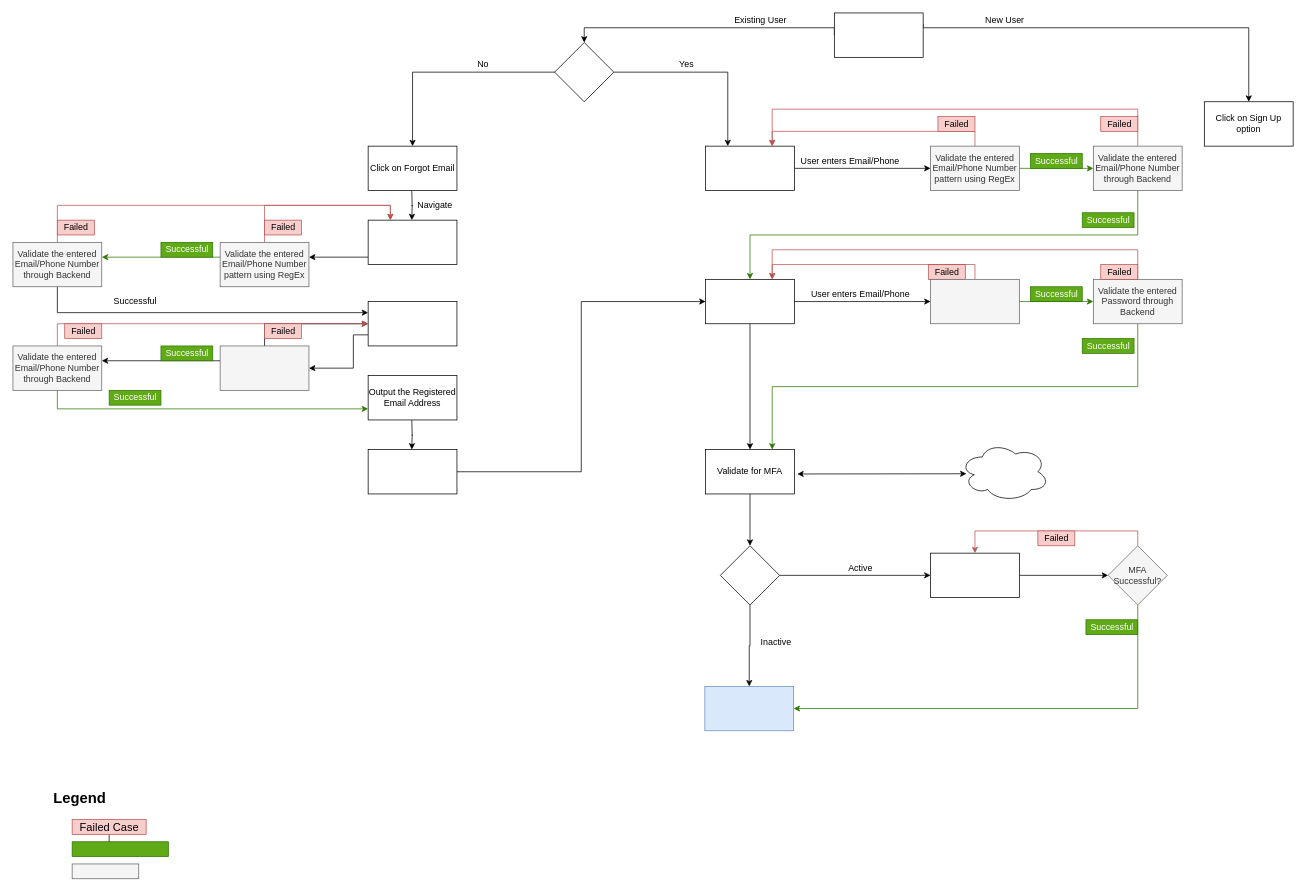
Image size: 1306x892. Some labels were removed from this diagram. Here are the shapes that lost their labels. From the top down, the centre of each, then its label:
point (878, 34): Gmail.com Opened
point (584, 72): Remember Email
point (749, 168): Prompt User to enter Email or Phone
point (412, 242): User enters Recovery Email/Phone Number
point (749, 301): Prompt User to enter Password
point (974, 301): Validate the entered Password pattern using RegEx
point (412, 323): Prompt user to enter First Name and Last Name
point (264, 367): Validate the entered First/Last Name pattern using RegEx
point (412, 471): User Clicks "Login with this Email" Option
point (1004, 471): Google Cloud
point (750, 575): MFA Active?
point (974, 575): Process for MFA
point (749, 708): Gmail Dashboard
point (119, 849): Successful Case
point (105, 871): Validations
